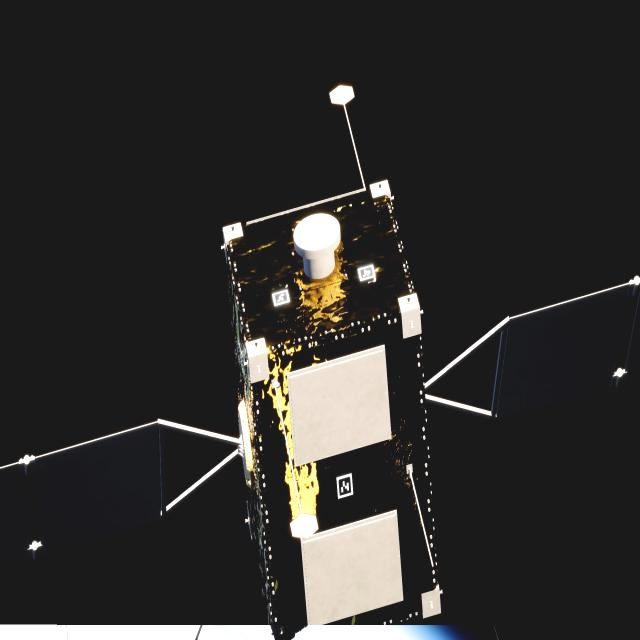satellite: (0, 180, 640, 640)
